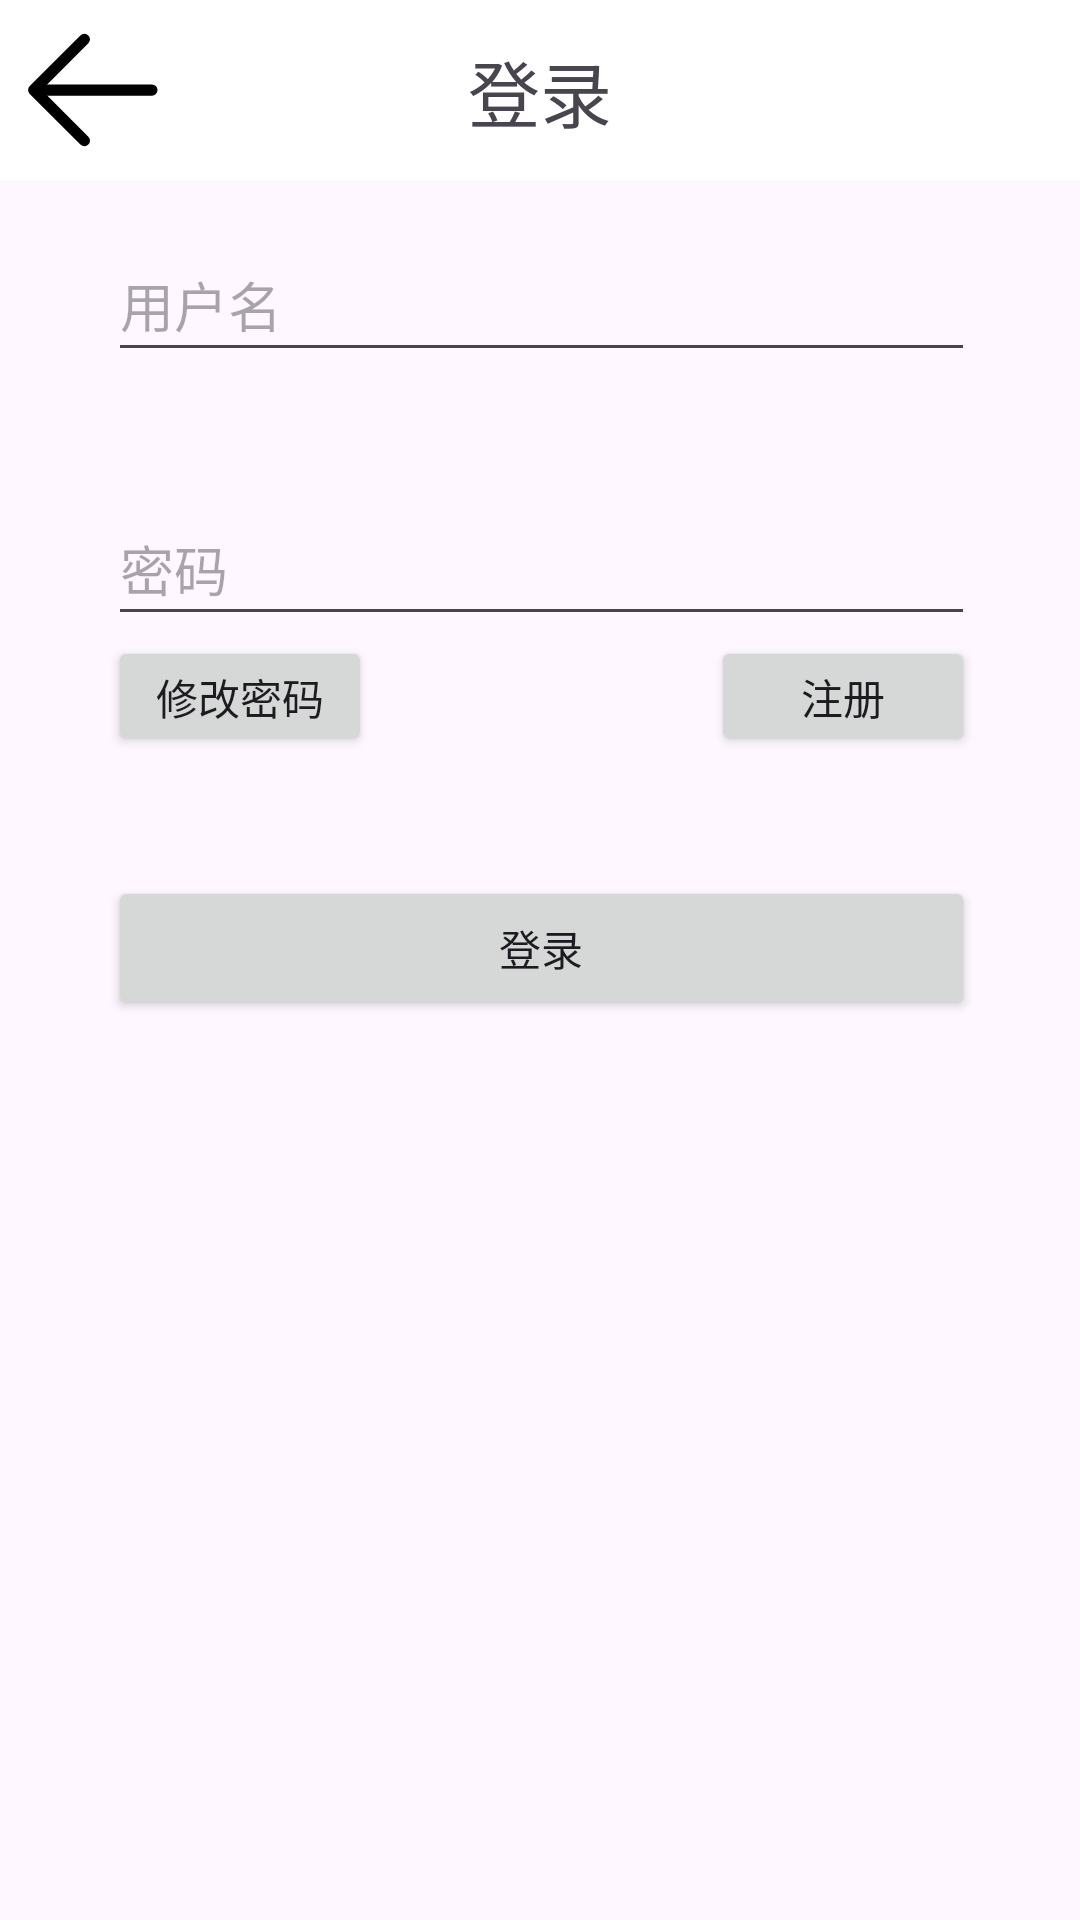

Point at icon controls on the screen. Image size 1080px x 1920px, points as point (x, y).
back: point (93, 90)
